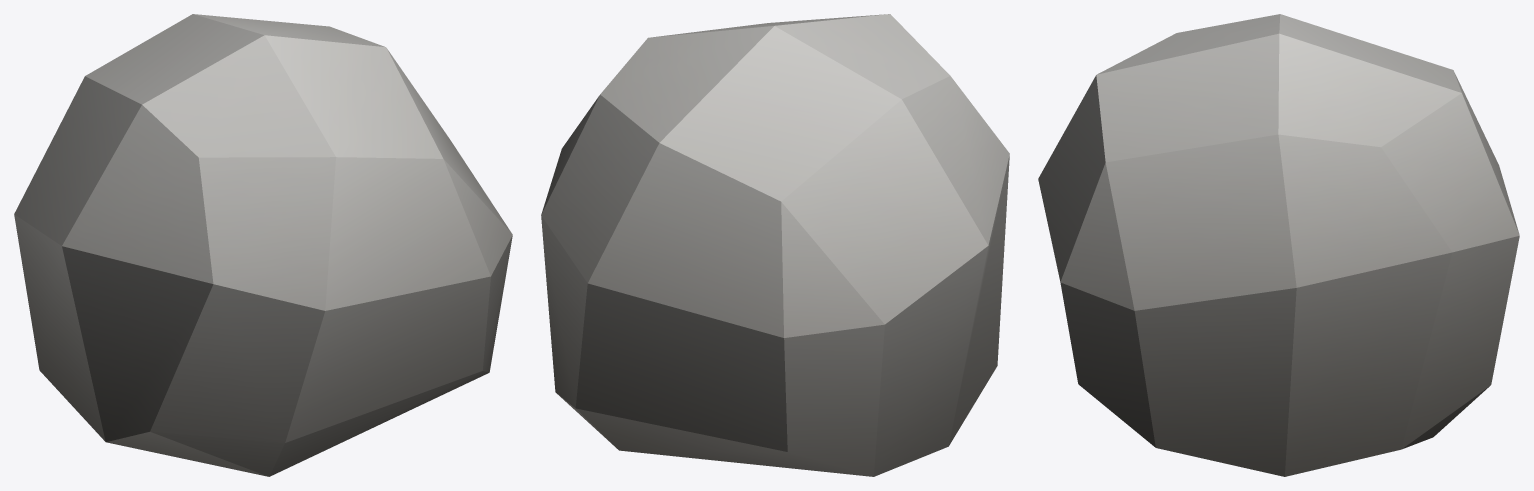
File: Rock_Boulder_A.fbx
The picture shows the model from 3 angles, left to right: view 1: azimuth 30°, elevation 25°; view 2: azimuth 150°, elevation 25°; view 3: azimuth 270°, elevation 25°; orthographic projection. The views are drawn at different scales.
Parts seen in each view (by area): view 1: Rock_Boulder_A; view 2: Rock_Boulder_A; view 3: Rock_Boulder_A.
Part boxes in pixels (x1,y1,x2,y2): Rock_Boulder_A: [14, 14, 512, 476]; Rock_Boulder_A: [541, 14, 1009, 476]; Rock_Boulder_A: [1038, 14, 1519, 476].
Bounding box in the file's own units: 327 × 333 × 342.
